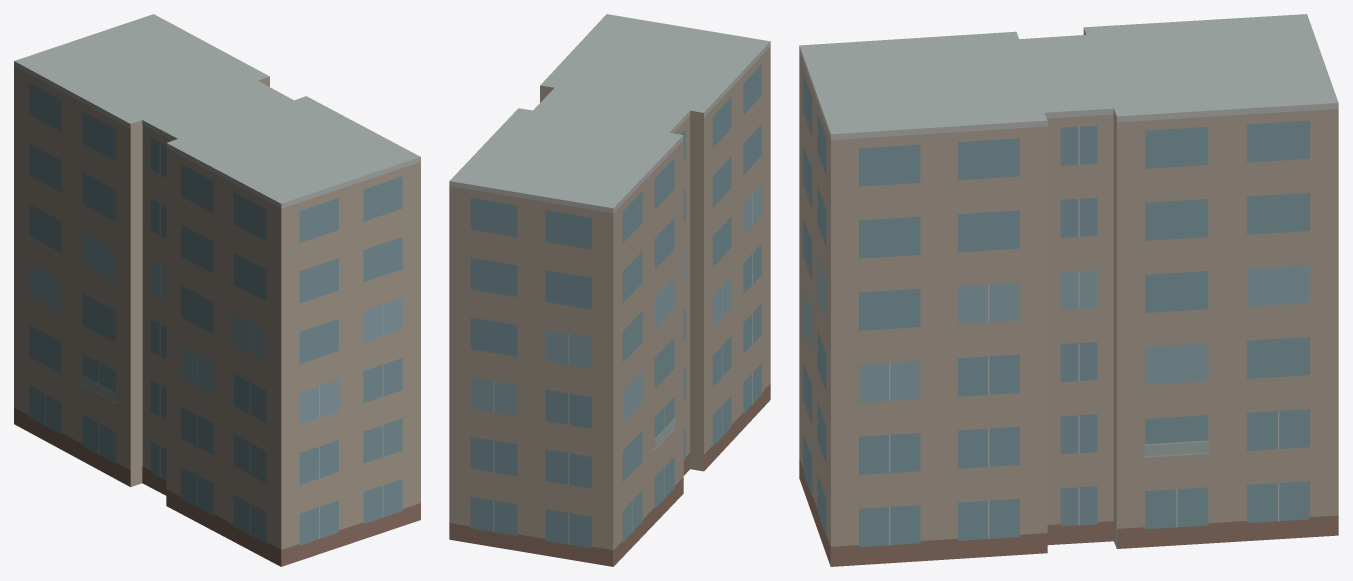
Rendered from survey-upis-33028885.glb.
3 renders of one model, left to right at view 1: azimuth 30°, elevation 25°; view 2: azimuth 150°, elevation 25°; view 3: azimuth 270°, elevation 25°, orthographic. The views are drawn at different scales.
Visible parts, largest first — view 1: survey-upis-33028885.tmp; view 2: survey-upis-33028885.tmp; view 3: survey-upis-33028885.tmp.
Part boxes in pixels (bbox=[...]): survey-upis-33028885.tmp: bbox=[14, 14, 420, 566]; survey-upis-33028885.tmp: bbox=[449, 14, 770, 566]; survey-upis-33028885.tmp: bbox=[799, 14, 1338, 566].
Size of the model in its own units: 10.62 by 17.8 by 20.12.
